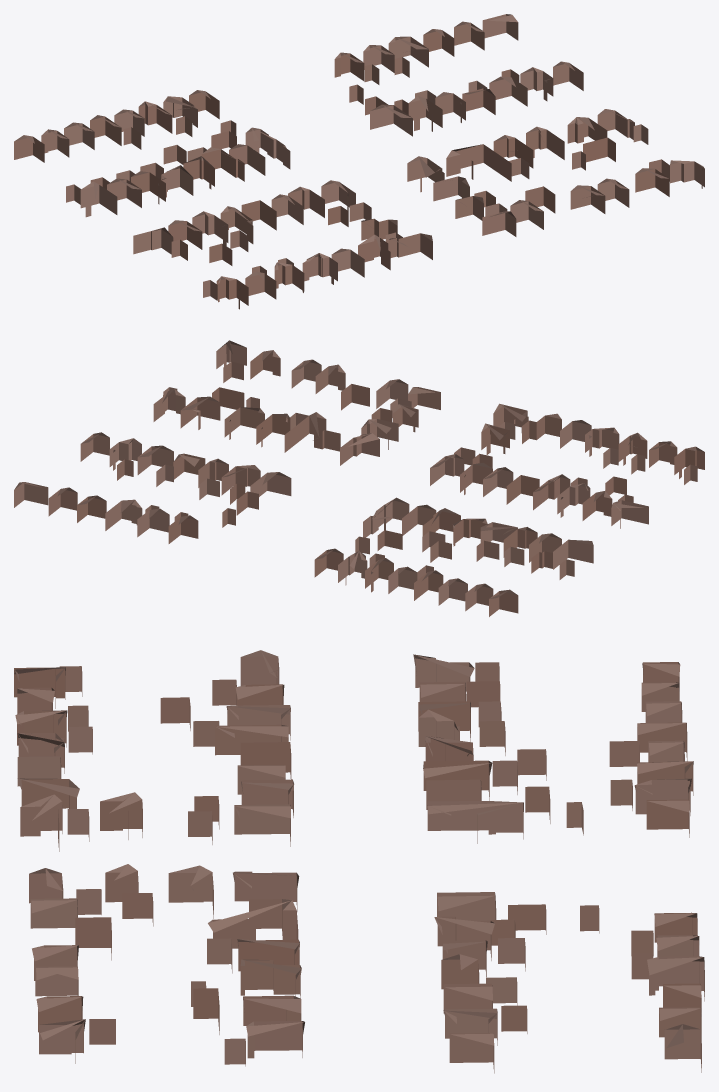
File: c_1643_17824_buildings_residential.glb
3 views of the same model, one above another, from view 1: azimuth 30°, elevation 25°; view 2: azimuth 150°, elevation 25°; view 3: azimuth 270°, elevation 25° (orthographic). The views are drawn at different scales.
Parts seen in each view (by area): view 1: geometry_0; view 2: geometry_0; view 3: geometry_0.
Boxes of the visible parts, x1=… form: geometry_0: x1=14, y1=14, x2=704, y2=309; geometry_0: x1=14, y1=340, x2=704, y2=616; geometry_0: x1=14, y1=650, x2=704, y2=1073.
Size of the model in its own units: 263 by 10.94 by 195.
